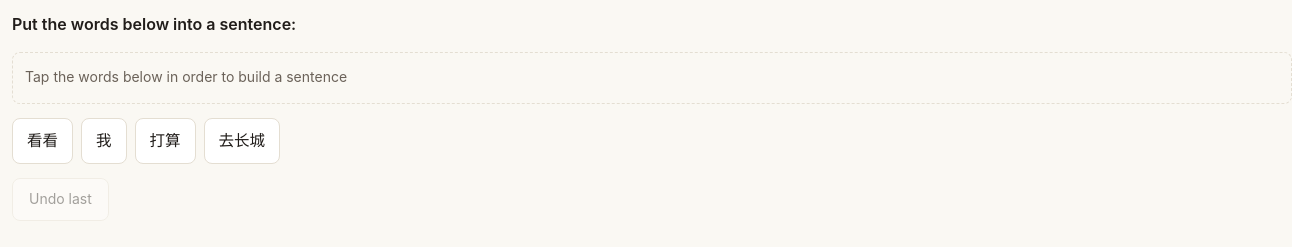
SentenceBuildQuestionComponent › moves a clicked tile into the strip and disables that tile
Click the button with class "tile" showing "我".
click(104, 141)  # box [81,118,126,164]
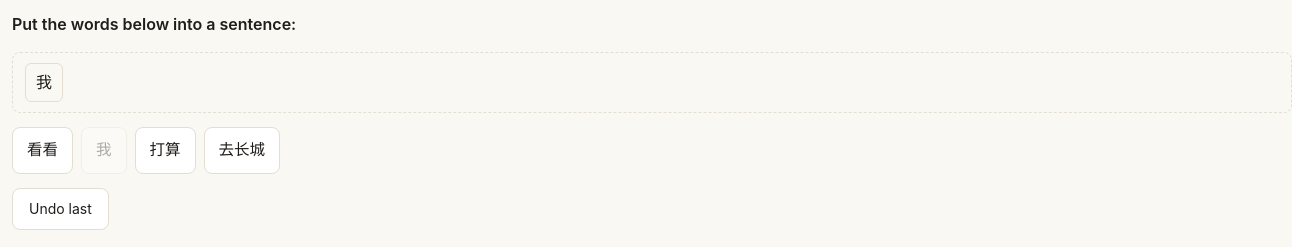
Check: the button with class "tile" showing "我" is disabled, box [81,127,126,174]
